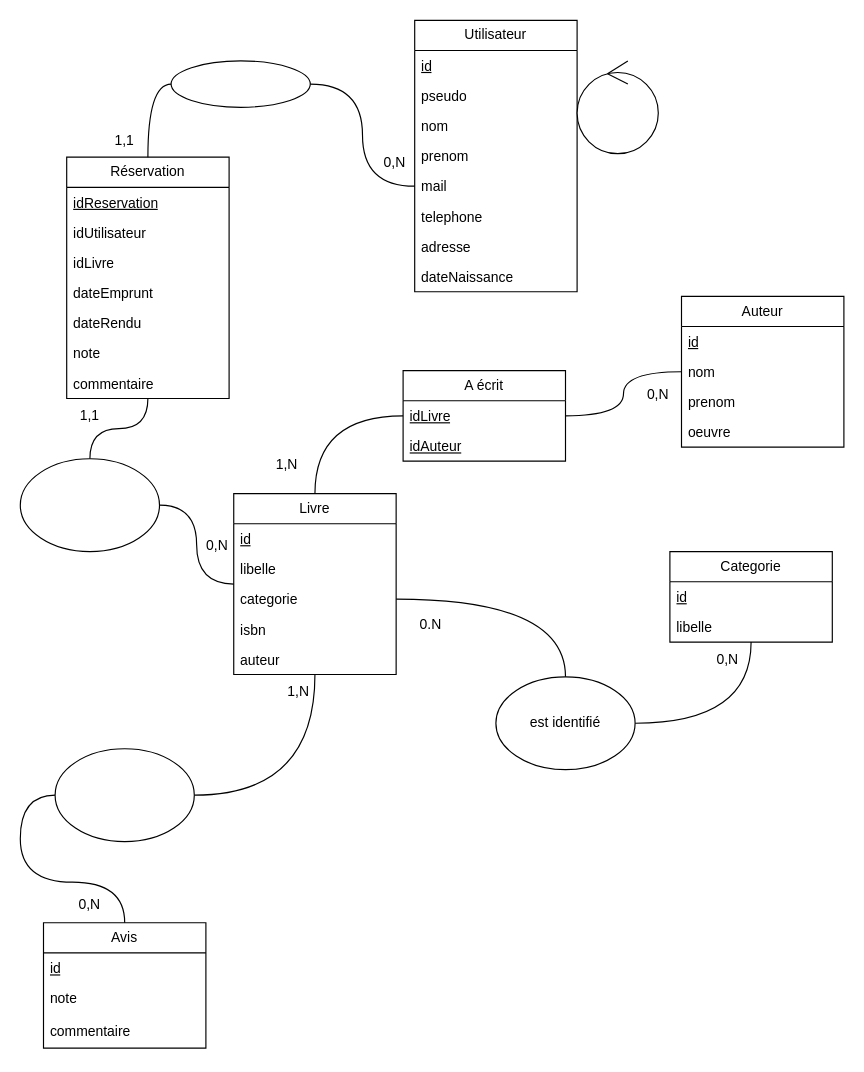
Image size: 864x1072. Some labels were removed from this diagram. Here are the shapes that lost their labels. From the top down, the centre of each, then its label:
At pixel 240 83: "réserve".
At pixel 617 107: "role".
At pixel 89 505: "est lié".
At pixel 124 795: "défnit".
